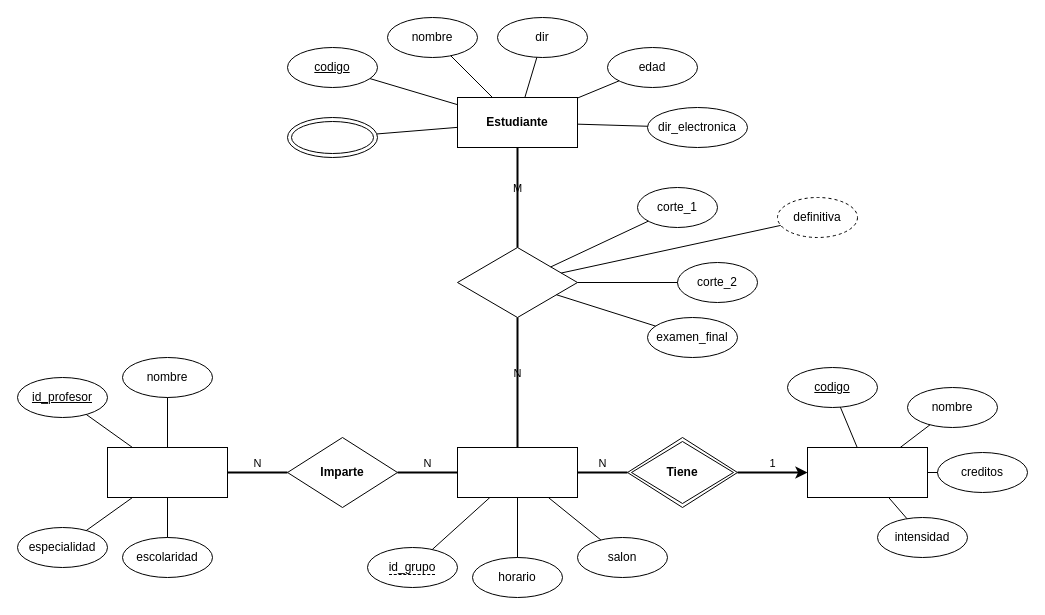
Some shapes in this 1045 by 615 pixel diagram are drawn without their labels. Each missing label, with the centre of its shape:
"Asignatura" belongs at [867,472].
"Grupo" belongs at [517,472].
"Inscribe" belongs at [517,282].
"Profesor" belongs at [167,472].
"telefonos" belongs at [332,137].
